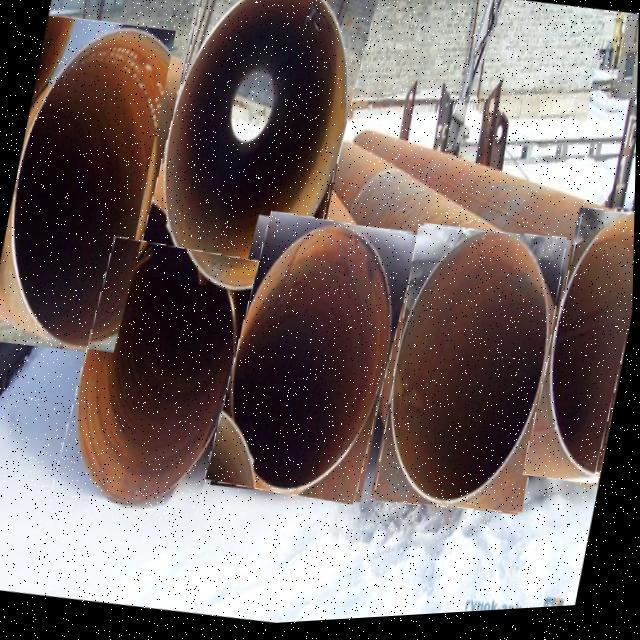pipe: (136, 0, 377, 303), (206, 214, 420, 509), (0, 15, 176, 356), (53, 238, 260, 519), (377, 231, 568, 519), (525, 214, 636, 491)
